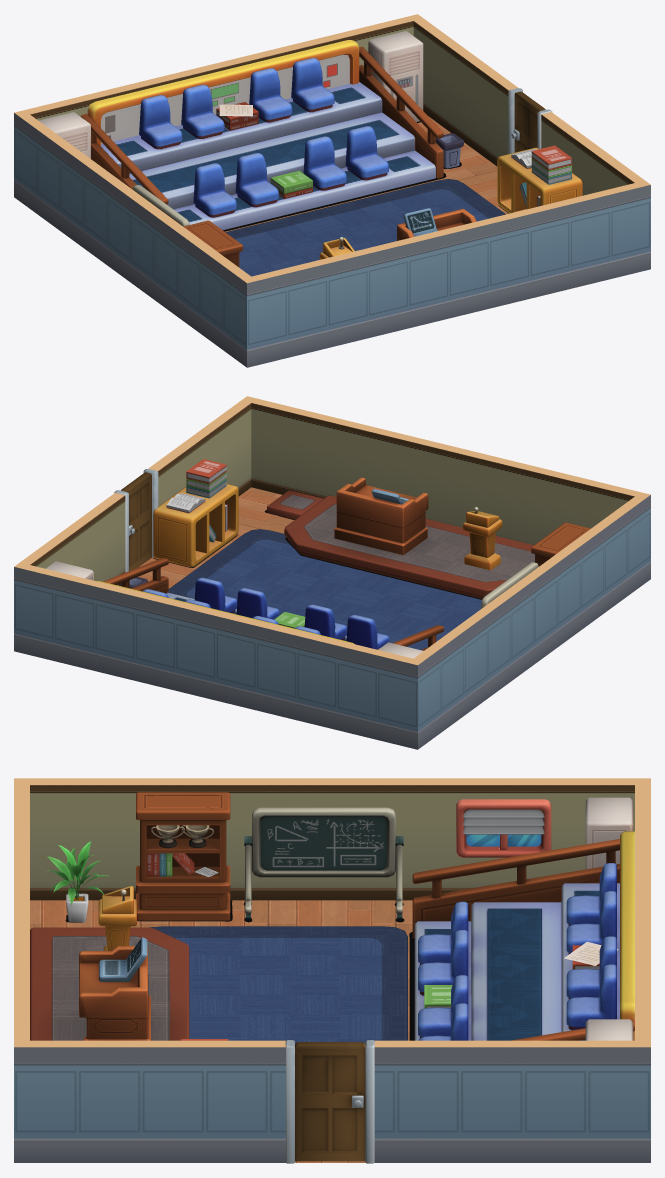
The model's file is Amphitheatre.FBX.
3 views of the same model, one above another, from view 1: azimuth 30°, elevation 25°; view 2: azimuth 150°, elevation 25°; view 3: azimuth 270°, elevation 25° (orthographic). The views are drawn at different scales.
Parts seen in each view (by area): view 1: Amphitheatre_Floor012, Amphitheatre_Item_Stair, Amphitheatre_Item_Carpet, Amphitheatre_Item_Bookcase_01, Amphitheatre_Item_AirConditioning, Amphitheatre_Item_Dais, StaffLounge_Item_Door_02, Amphitheatre_Item_AirConditioning001, Amphitheatre_Item_Bookcase_02, StaffLounge_Item_Door_01, Amphitheatre_Item_TrashCan, Amphitheatre_Item_Blackboard (+1 smaller); view 2: Amphitheatre_Floor012, Amphitheatre_Item_Dais, Amphitheatre_Item_Carpet, Amphitheatre_Item_Stair, Amphitheatre_Item_Bookcase_01, StaffLounge_Item_Door_02, Amphitheatre_Item_Bookcase_02, StaffLounge_Item_Door_01, Amphitheatre_Item_Blackboard; view 3: Amphitheatre_Floor012, Amphitheatre_Item_Stair, Amphitheatre_Item_Carpet, Amphitheatre_Item_Dais, Amphitheatre_Item_Bookcase_02, Amphitheatre_Item_Blackboard, StaffLounge_Item_Door_02, Amphitheatre_Item_Window, Amphitheatre_Item_AirConditioning001, StaffLounge_Item_Door_01, Amphitheatre_Item_Bonsai, Amphitheatre_Item_AirConditioning (+1 smaller).
Boxes of the visible parts, x1,y1,x2,y2 form: Amphitheatre_Floor012: (14, 14, 650, 367); Amphitheatre_Item_Stair: (80, 40, 443, 230); Amphitheatre_Item_Carpet: (226, 179, 505, 276); Amphitheatre_Item_Bookcase_01: (497, 145, 582, 213); Amphitheatre_Item_AirConditioning: (368, 31, 423, 121); Amphitheatre_Item_Dais: (319, 208, 476, 259); StaffLounge_Item_Door_02: (511, 91, 545, 152); Amphitheatre_Item_AirConditioning001: (39, 112, 90, 158); Amphitheatre_Item_Bookcase_02: (183, 220, 242, 267); StaffLounge_Item_Door_01: (508, 88, 552, 153); Amphitheatre_Item_TrashCan: (436, 133, 463, 168); Amphitheatre_Item_Blackboard: (132, 185, 189, 226); Amphitheatre_Floor012: (14, 396, 650, 749); Amphitheatre_Item_Dais: (267, 477, 534, 598); Amphitheatre_Item_Carpet: (168, 529, 481, 649); Amphitheatre_Item_Stair: (98, 558, 443, 650); Amphitheatre_Item_Bookcase_01: (153, 459, 238, 567); StaffLounge_Item_Door_02: (121, 472, 151, 570); Amphitheatre_Item_Bookcase_02: (531, 522, 590, 566); StaffLounge_Item_Door_01: (114, 469, 158, 572); Amphitheatre_Item_Blackboard: (481, 562, 538, 608); Amphitheatre_Floor012: (14, 778, 650, 1162); Amphitheatre_Item_Stair: (412, 831, 634, 1040); Amphitheatre_Item_Carpet: (149, 926, 407, 1044); Amphitheatre_Item_Dais: (30, 886, 189, 1040); Amphitheatre_Item_Bookcase_02: (136, 792, 230, 920); Amphitheatre_Item_Blackboard: (244, 807, 403, 919); StaffLounge_Item_Door_02: (295, 1042, 365, 1161); Amphitheatre_Item_Window: (456, 799, 551, 857); Amphitheatre_Item_AirConditioning001: (585, 797, 633, 869); StaffLounge_Item_Door_01: (285, 1040, 374, 1163); Amphitheatre_Item_Bonsai: (47, 841, 108, 922); Amphitheatre_Item_AirConditioning: (585, 1019, 633, 1040).
Bounding box in the file's own units: 10.07 × 2.02 × 10.
